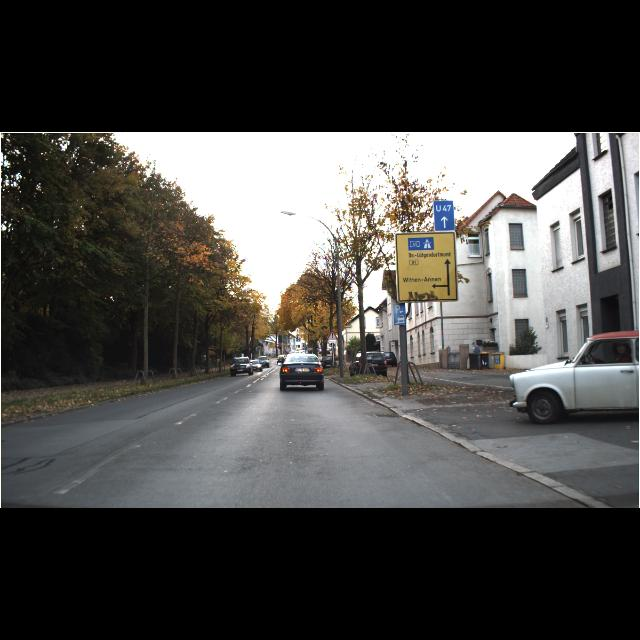danger: (326, 330, 338, 340)
